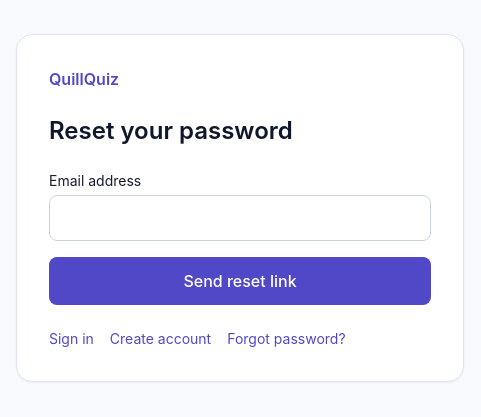
it: authentication screens › shows a neutral recovery result and handles expired reset links
This screenshot has width=481, height=417.
Later steps or results of the test are not shown.
Step 1. Type "test@example.test" into the field labelled "Email address" → [240, 218], box [49,195,431,241]
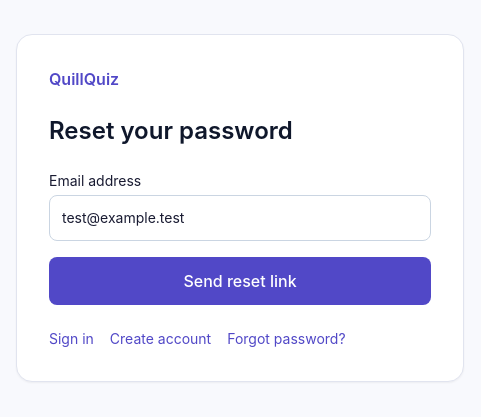
Step 2. Click the button "Send reset link" → [240, 281], box [49,257,431,305]
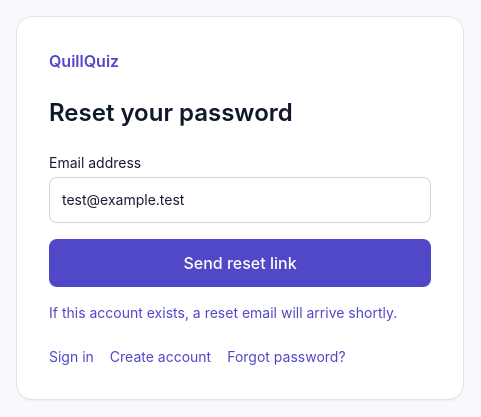
expect the message shows "If this account exists": met, box [49,304,397,321]
